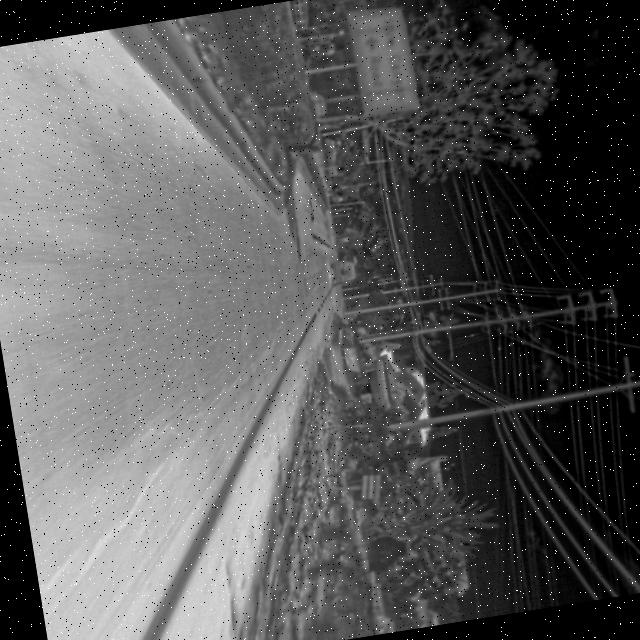Vehicle: (325, 257, 359, 288)
